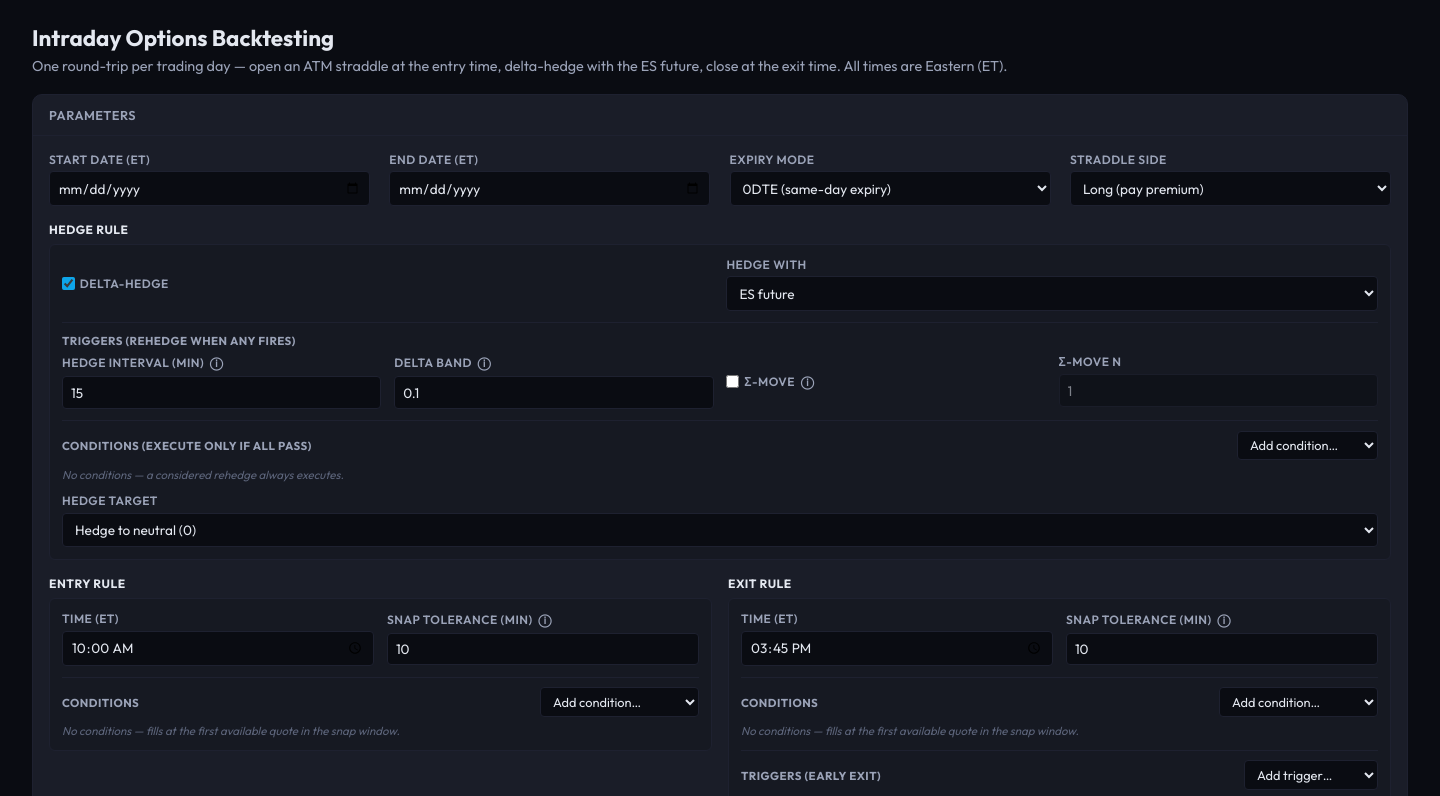
it: IntradayBacktestPage › adding a condition via the dropdown renders that condition's param inputs
Expected: the date field labelled "Start date" is shown, [49, 171, 370, 206]
Expected: the text with test id "entry-conditions-empty" is shown, [62, 723, 400, 738]
Step 1. Select "Max spread" in the dropdown with test id "entry-add-condition" → (620, 702), box [540, 688, 699, 717]
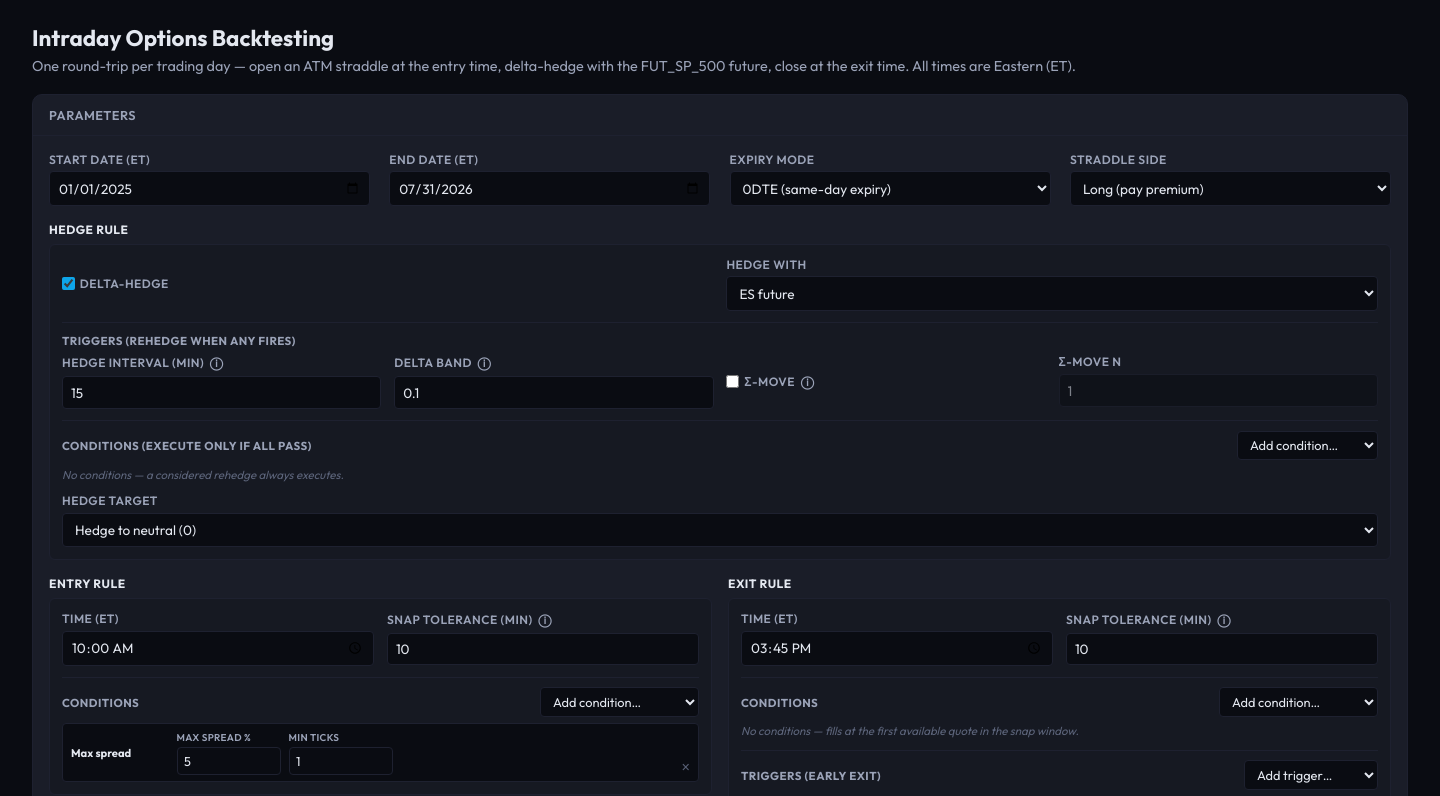
Result: the element with test id "entry-condition-max_spread" is shown at [62, 723, 699, 782]
Result: the number field named "entry max_spread pct" is shown at [177, 747, 281, 775]
Result: the number field named "entry max_spread min ticks" is shown at [289, 747, 393, 775]
Step 2. Select "Min quote size" in the dropdown with test id "entry-add-condition" → (620, 702), box [540, 688, 699, 717]
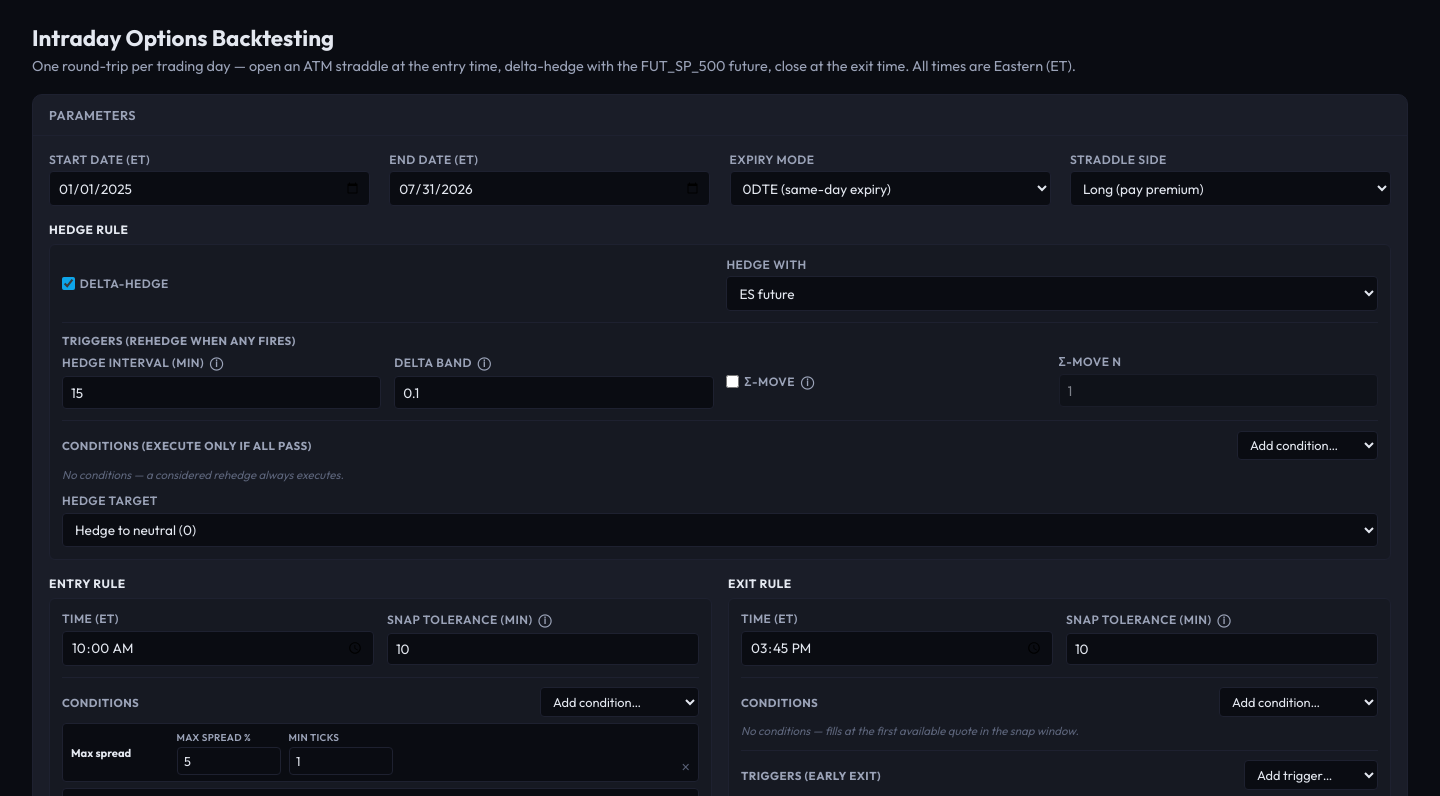
Step 3. Click the button named "Remove Max spread condition" → (686, 767), box [682, 760, 690, 775]
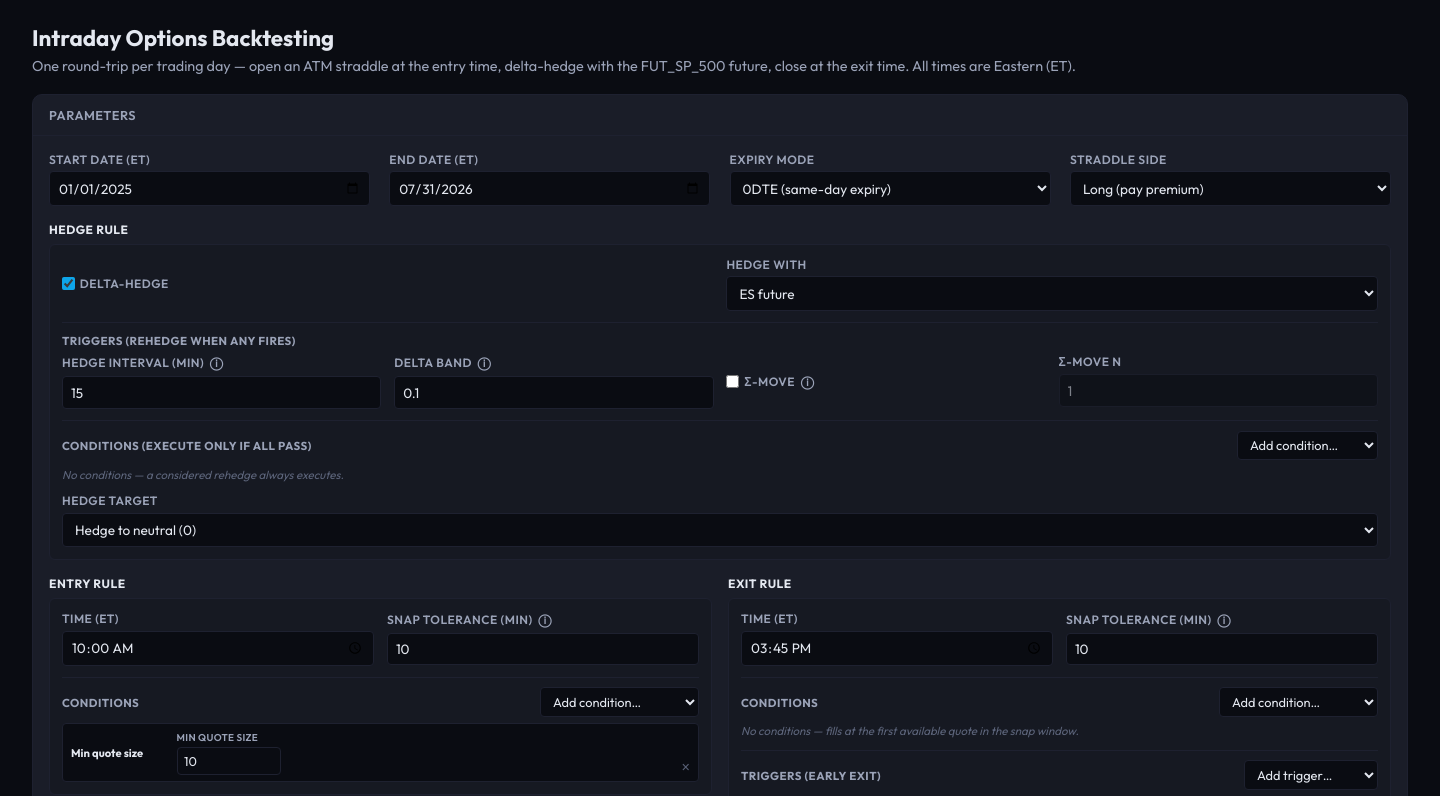
Result: the element with test id "entry-condition-min_quote_size" is shown at [62, 723, 699, 782]
Result: the element with test id "entry-condition-max_spread" is gone
